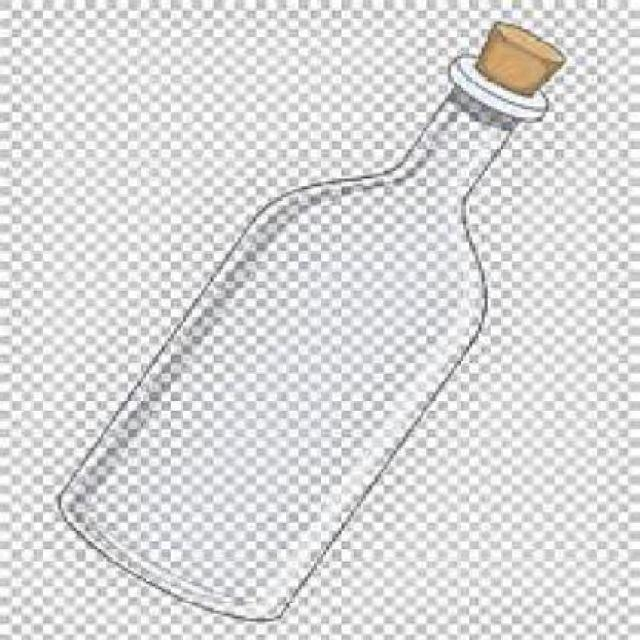kaca: (55, 51, 543, 618)
